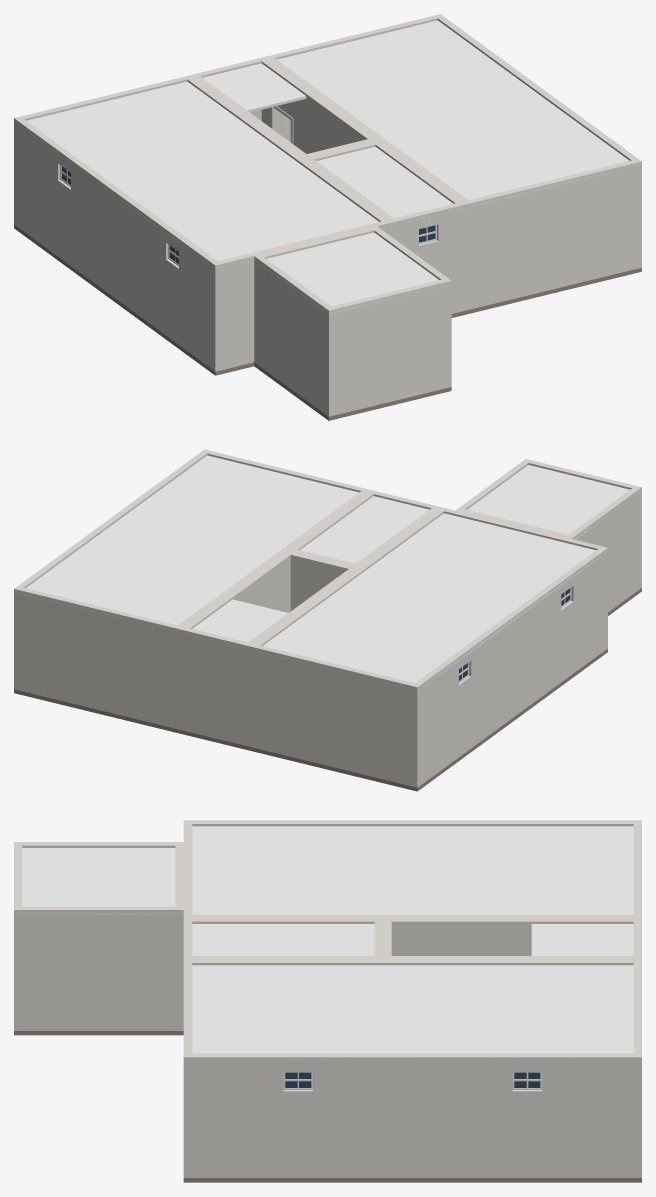
The model's file is interior-basement-v002.glb.
3 views of the same model, one above another, from view 1: azimuth 30°, elevation 25°; view 2: azimuth 150°, elevation 25°; view 3: azimuth 270°, elevation 25° (orthographic). The views are drawn at different scales.
Visible parts, largest first — view 1: interior-basement-v002; view 2: interior-basement-v002; view 3: interior-basement-v002.
Part boxes in pixels (x1,y1,x2,y2): interior-basement-v002: [14, 14, 641, 420]; interior-basement-v002: [14, 449, 641, 791]; interior-basement-v002: [14, 820, 641, 1182].
Bounding box in the file's own units: 13.2 × 3.26 × 14.8.
